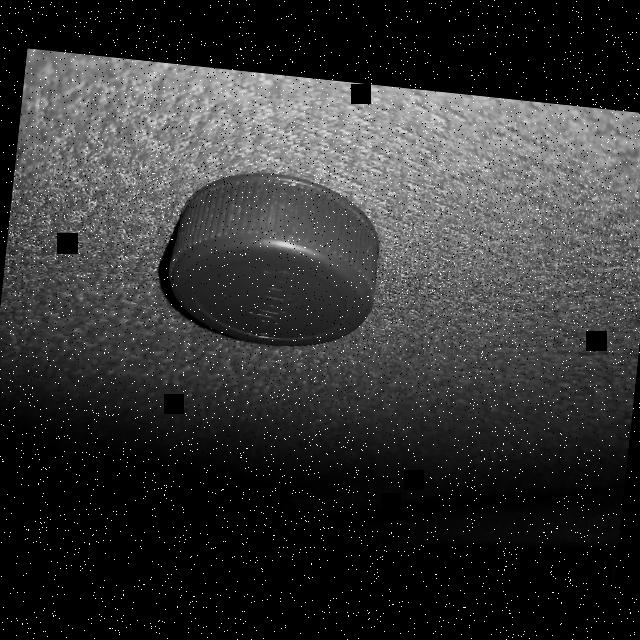plastic_bottle_cap: (162, 164, 388, 356)
